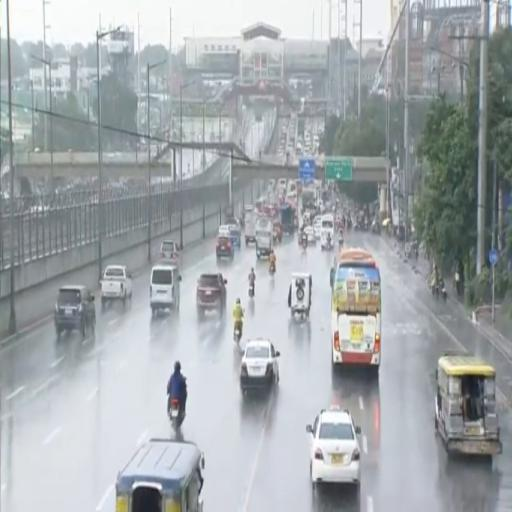bus: (331, 249, 381, 372)
car: (306, 406, 360, 489), (54, 285, 95, 338), (240, 339, 280, 392), (197, 274, 227, 318), (161, 240, 180, 264), (216, 235, 233, 260), (304, 227, 316, 245), (313, 217, 321, 239), (218, 226, 230, 236)
jeepney: (435, 354, 501, 455), (116, 439, 204, 511)
motorcycle: (168, 398, 185, 430), (432, 281, 447, 301), (234, 322, 242, 343), (249, 281, 254, 298), (270, 262, 275, 276), (301, 239, 307, 250), (339, 237, 344, 249)
truck: (100, 265, 132, 307), (256, 218, 273, 259), (280, 203, 294, 235), (245, 205, 255, 245)
